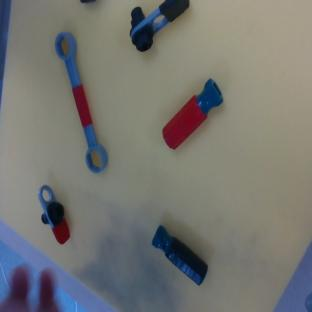part_1_good: (33, 181, 72, 247)
part_2_bad: (146, 224, 213, 286)
part_2_good: (156, 77, 229, 152)
part_3_good: (51, 30, 111, 175)
